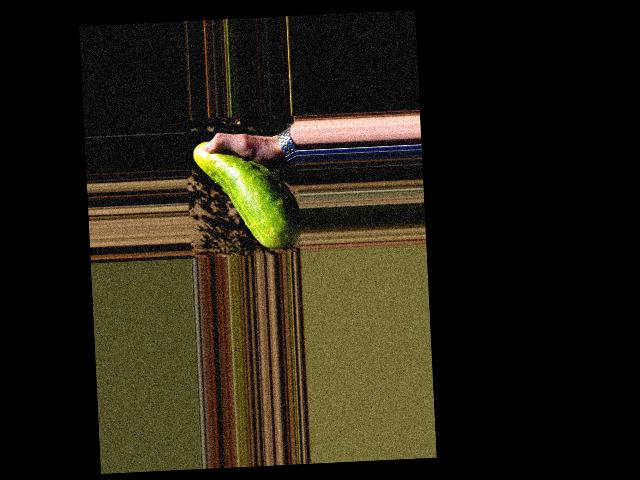cucumber: (193, 137, 302, 254)
